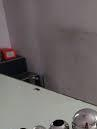ironball: (70, 102, 96, 128), (48, 119, 70, 128), (30, 123, 49, 128)
